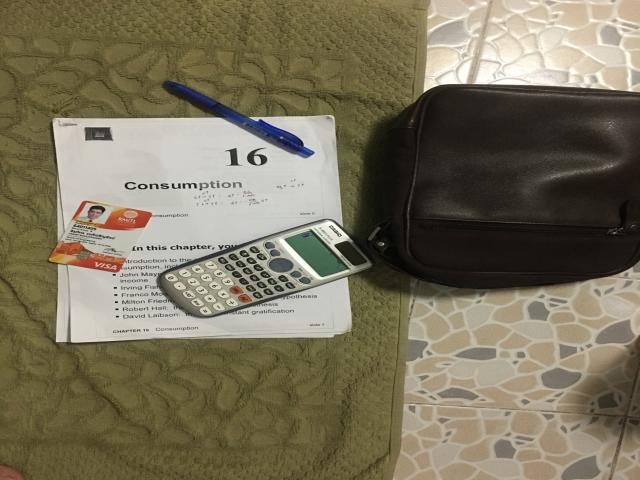Pen: (163, 81, 315, 158)
paper: (53, 115, 352, 343)
